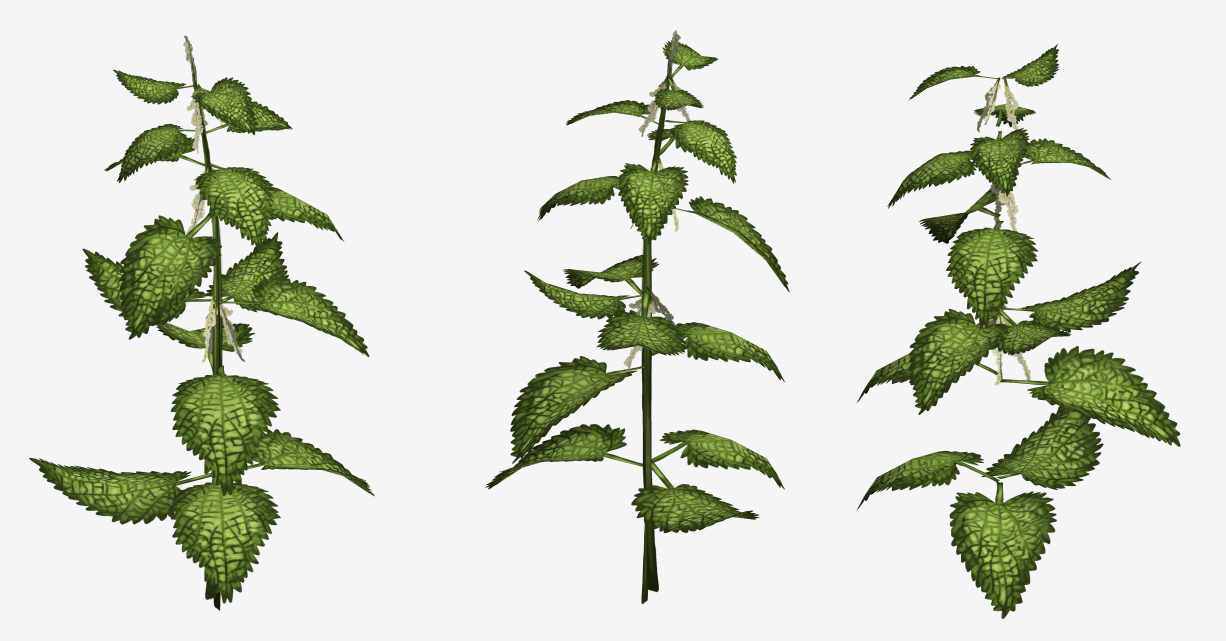
File: nettle.glb
The picture shows the model from 3 angles, left to right: view 1: azimuth 30°, elevation 25°; view 2: azimuth 150°, elevation 25°; view 3: azimuth 270°, elevation 25°; orthographic projection.
Visible parts, largest first — view 1: Object_2; view 2: Object_2; view 3: Object_2.
Part boxes in pixels (bbox=[...]): Object_2: bbox=[29, 35, 374, 610]; Object_2: bbox=[485, 30, 789, 604]; Object_2: bbox=[856, 44, 1180, 618].
Bounding box in the file's own units: 5.35 × 8.67 × 4.98.
Materials: 1 (1 with a texture image).
